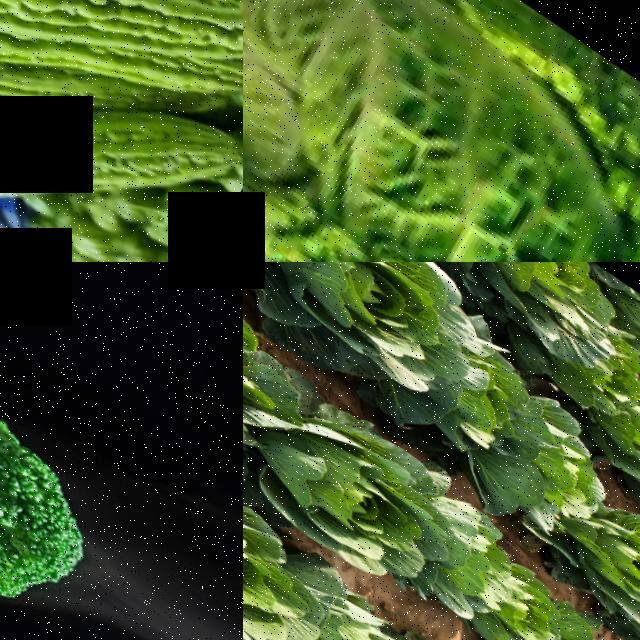bitter gourd: (0, 26, 222, 262), (14, 0, 243, 104)
broccoli: (0, 367, 134, 640)
cabbage: (243, 0, 640, 262), (243, 365, 450, 585), (402, 293, 588, 486), (254, 262, 464, 382), (412, 494, 537, 626), (533, 449, 640, 592), (548, 337, 640, 502), (451, 262, 592, 319), (548, 600, 640, 640)
